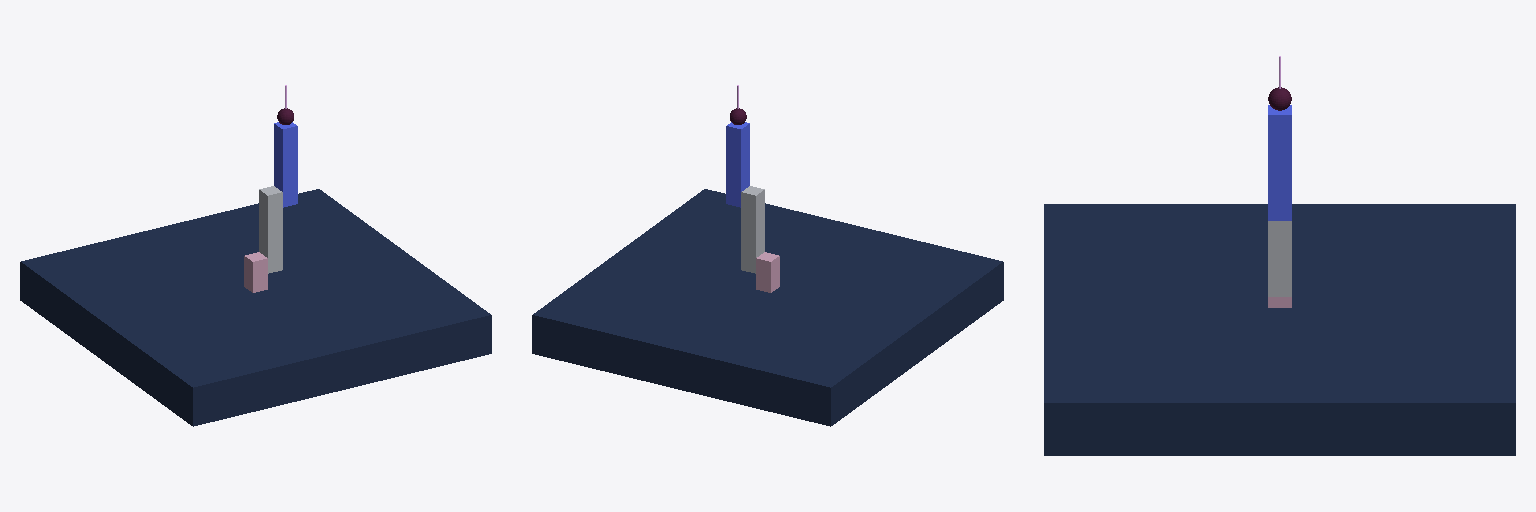
URDF robot description (materials):
<?xml version="1.0" ?>
<robot name="materials">
    <!-- Define materials -->
    <material name="color_1">
        <color rgba="0.173 0.231 0.349 1" />
    </material>
    <material name="color_2">
        <color rgba="0.318 0.137 0.255 1" />
    </material>
    <material name="color_3">
        <color rgba="0.839 0.678 0.773 1" />
    </material>
    <material name="color_4">
        <color rgba="0.953 0.737 1.0 1" />
    </material>
    <material name="color_5">
        <color rgba="0.749 0.765 0.788 1" />
    </material>
    <material name="color_6">
        <color rgba="0.91 0.49 0.839 1" />
    </material>
    <material name="color_7">
        <color rgba="0.373 0.451 0.957 1" />
    </material>
    <material name="color_8">
        <color rgba="0.318 0.337 0.051 1" />
    </material>
    <!-- Define robot -->
    <!-- Base -->
    <link name="base_link">
        <visual>
            <geometry>
                <box size="4.0 4.0 0.5" />
            </geometry>
            <origin rpy="0 0 0" xyz="0 0 -0.25" />
            <material name="color_1" />
        </visual>
    </link>
    <!-- Arm 1 -->
    <link name="arm_1">
        <visual>
            <geometry>
                <box size="0.2 0.2 0.4" />
            </geometry>
            <origin rpy="0 0 0" xyz="0 0 0.2" />
            <material name="color_3" />
        </visual>
    </link>
    <!-- Arm 2 -->
    <link name="arm_2">
        <visual>
            <geometry>
                <box size="0.2 0.2 1.0" />
            </geometry>
            <origin rpy="0 0 0" xyz="0.1 0 0.4" />
            <material name="color_5" />
        </visual>
    </link>
    <!-- Arm 3 -->
    <link name="arm_3">
        <visual>
            <geometry>
                <box size="0.2 0.2 1.0" />
            </geometry>
            <origin rpy="0 0 0" xyz="0.1 0 0.4" />
            <material name="color_7" />
        </visual>
    </link>
    <!-- Arm 4 5 6 -->
    <link name="arm_4" />
    <link name="arm_5" />
    <link name="arm_6">
        <visual>
            <geometry>
                <sphere radius="0.1" />
            </geometry>
            <origin rpy="0 0 0" xyz="0 0 0" />
            <material name="color_2" />
        </visual>
    </link>
    <!-- End effector -->
    <link name="end_effector">
        <visual>
            <geometry>
                <cylinder length="0.4" radius="0.01" />
            </geometry>
            <origin rpy="0 0 0" xyz="0 0 0.2" />
            <material name="color_4" />
        </visual>
    </link>
    <!-- Define joints -->
    <joint name="base_to_its_part_1" type="revolute">
        <parent link="base_link" />
        <child link="arm_1" />
        <origin rpy="0 0 0" xyz="0 0 0" />
        <axis xyz="0 0 1" />
        <limit effort="20" lower="-6.28" upper="6.28" velocity="1.57" />
    </joint>
    <joint name="arm_1_to_arm_2" type="revolute">
        <parent link="arm_1" />
        <child link="arm_2" />
        <origin rpy="0 0 0" xyz="0.1 0 0.3" />
        <axis xyz="1 0 0" />
        <limit effort="20" lower="-6.28" upper="6.28" velocity="1.57" />
    </joint>
    <joint name="arm_2_to_arm_3" type="revolute">
        <parent link="arm_2" />
        <child link="arm_3" />
        <origin rpy="0 0 0" xyz="0.2 0 0.8" />
        <axis xyz="1 0 0" />
        <limit effort="20" lower="-6.28" upper="6.28" velocity="1.57" />
    </joint>
    <joint name="arm_3_to_arm_4" type="revolute">
        <parent link="arm_3" />
        <child link="arm_4" />
        <origin rpy="0 0 0" xyz="0.1 0 1.0" />
        <axis xyz="0 0 1" />
        <limit effort="20" lower="-6.28" upper="6.28" velocity="1.57" />
    </joint>
    <joint name="arm_4_to_arm_5" type="revolute">
        <parent link="arm_4" />
        <child link="arm_5" />
        <origin rpy="0 0 0" xyz="0 0 0" />
        <axis xyz="0 1 0" />
        <limit effort="20" lower="-6.28" upper="6.28" velocity="1.57" />
    </joint>
    <joint name="arm_5_to_arm_6" type="revolute">
        <parent link="arm_5" />
        <child link="arm_6" />
        <origin rpy="0 0 0" xyz="0 0 0" />
        <axis xyz="1 0 0" />
        <limit effort="20" lower="-6.28" upper="6.28" velocity="1.57" />
    </joint>
    <joint name="arm_6_to_end_effector" type="revolute">
        <parent link="arm_6" />
        <child link="end_effector" />
        <origin rpy="0 0 0" xyz="0 0 0" />
        <axis xyz="0 0 1" />
        <limit effort="0" lower="0" upper="0" velocity="0" />
    </joint>
    <transmission name="trans_base_to_its_part_1">
        <type>transmission_interface/SimpleTransmission</type>
        <joint name="base_to_its_part_1">
            <hardwareInterface>hardware_interface/PositionJointInterface</hardwareInterface>
        </joint>
        <actuator name="base_to_its_part_1_motor">
            <hardwareInterface>hardware_interface/PositionJointInterface</hardwareInterface>
            <mechanicalReduction>1</mechanicalReduction>
        </actuator>
    </transmission>
    <transmission name="trans_arm_1_to_arm_2">
        <type>transmission_interface/SimpleTransmission</type>
        <joint name="arm_1_to_arm_2">
            <hardwareInterface>hardware_interface/PositionJointInterface</hardwareInterface>
        </joint>
        <actuator name="arm_1_to_arm_2_motor">
            <hardwareInterface>hardware_interface/PositionJointInterface</hardwareInterface>
            <mechanicalReduction>1</mechanicalReduction>
        </actuator>
    </transmission>
    <transmission name="trans_arm_2_to_arm_3">
        <type>transmission_interface/SimpleTransmission</type>
        <joint name="arm_2_to_arm_3">
            <hardwareInterface>hardware_interface/PositionJointInterface</hardwareInterface>
        </joint>
        <actuator name="arm_2_to_arm_3_motor">
            <hardwareInterface>hardware_interface/PositionJointInterface</hardwareInterface>
            <mechanicalReduction>1</mechanicalReduction>
        </actuator>
    </transmission>
    <transmission name="trans_arm_3_to_arm_4">
        <type>transmission_interface/SimpleTransmission</type>
        <joint name="arm_3_to_arm_4">
            <hardwareInterface>hardware_interface/PositionJointInterface</hardwareInterface>
        </joint>
        <actuator name="arm_3_to_arm_4_motor">
            <hardwareInterface>hardware_interface/PositionJointInterface</hardwareInterface>
            <mechanicalReduction>1</mechanicalReduction>
        </actuator>
    </transmission>
    <transmission name="trans_arm_4_to_arm_5">
        <type>transmission_interface/SimpleTransmission</type>
        <joint name="arm_4_to_arm_5">
            <hardwareInterface>hardware_interface/PositionJointInterface</hardwareInterface>
        </joint>
        <actuator name="arm_4_to_arm_5_motor">
            <hardwareInterface>hardware_interface/PositionJointInterface</hardwareInterface>
            <mechanicalReduction>1</mechanicalReduction>
        </actuator>
    </transmission>
    <transmission name="trans_arm_5_to_arm_6">
        <type>transmission_interface/SimpleTransmission</type>
        <joint name="arm_5_to_arm_6">
            <hardwareInterface>hardware_interface/PositionJointInterface</hardwareInterface>
        </joint>
        <actuator name="arm_5_to_arm_6_motor">
            <hardwareInterface>hardware_interface/PositionJointInterface</hardwareInterface>
            <mechanicalReduction>1</mechanicalReduction>
        </actuator>
    </transmission>
    <transmission name="trans_arm_6_to_end_effector">
        <type>transmission_interface/SimpleTransmission</type>
        <joint name="arm_6_to_end_effector">
            <hardwareInterface>hardware_interface/PositionJointInterface</hardwareInterface>
        </joint>
        <actuator name="arm_6_to_end_effector_motor">
            <hardwareInterface>hardware_interface/PositionJointInterface</hardwareInterface>
            <mechanicalReduction>1</mechanicalReduction>
        </actuator>
    </transmission>
    <gazebo>
        <plugin name="gazebo_ros_control">
            <robotNamespace>/</robotNamespace>
        </plugin>
    </gazebo>
</robot>

--- What the picture shows (computed from the rendered views, not written in the file) ---
3 views of the same robot in one strip: view 1: azimuth 30°, elevation 25°; view 2: azimuth 150°, elevation 25°; view 3: azimuth 270°, elevation 25° (orthographic).
Model materials with 8 links and 7 joints (7 revolute), rooted at base_link, posed every joint at zero.
Visible links, largest first — view 1: base_link, arm_2, arm_3, arm_1; view 2: base_link, arm_2, arm_3, arm_1; view 3: base_link, arm_3, arm_2.
Link boxes in pixels (box(x1,y1,x2,y2)): base_link: box(20, 189, 491, 426); arm_2: box(259, 186, 282, 273); arm_3: box(274, 122, 297, 207); arm_1: box(244, 252, 267, 292); base_link: box(532, 189, 1003, 426); arm_2: box(741, 186, 764, 273); arm_3: box(726, 122, 749, 207); arm_1: box(756, 252, 779, 292); base_link: box(1044, 204, 1515, 455); arm_3: box(1268, 105, 1291, 220); arm_2: box(1268, 221, 1291, 296).
Size in the robot's own frame: 4 by 4 by 3 metres.
Geometry: primitives only (box / cylinder / sphere), no mesh files.